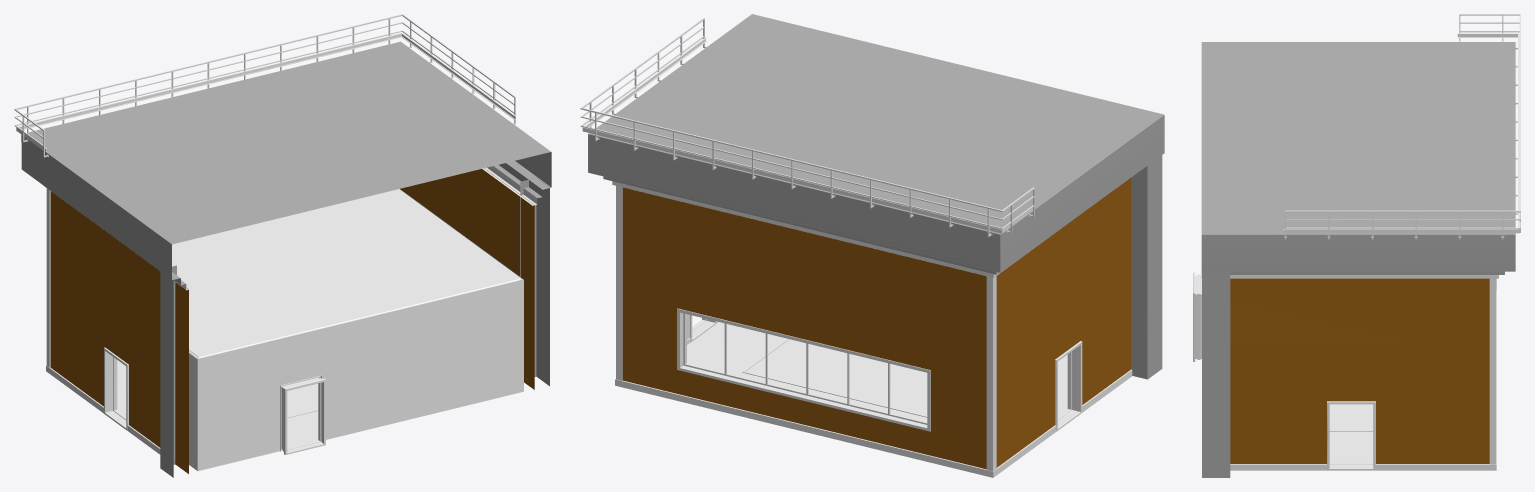
Rendered from SM_H_Building_Tide_HandlingRoom_03_ATLAS.fbx.
The picture shows the model from 3 angles, left to right: view 1: azimuth 30°, elevation 25°; view 2: azimuth 150°, elevation 25°; view 3: azimuth 270°, elevation 25°; orthographic projection. The views are drawn at different scales.
Visible parts, largest first — view 1: SM_H_Building_Tide_HandlingRoom_03_ATLAS; view 2: SM_H_Building_Tide_HandlingRoom_03_ATLAS; view 3: SM_H_Building_Tide_HandlingRoom_03_ATLAS.
Part boxes in pixels (x1,y1,x2,y2): SM_H_Building_Tide_HandlingRoom_03_ATLAS: (14,14,551,477); SM_H_Building_Tide_HandlingRoom_03_ATLAS: (580,14,1164,477); SM_H_Building_Tide_HandlingRoom_03_ATLAS: (1193,14,1520,477).
Size of the model in its own units: 1618 by 1136 by 1031.
